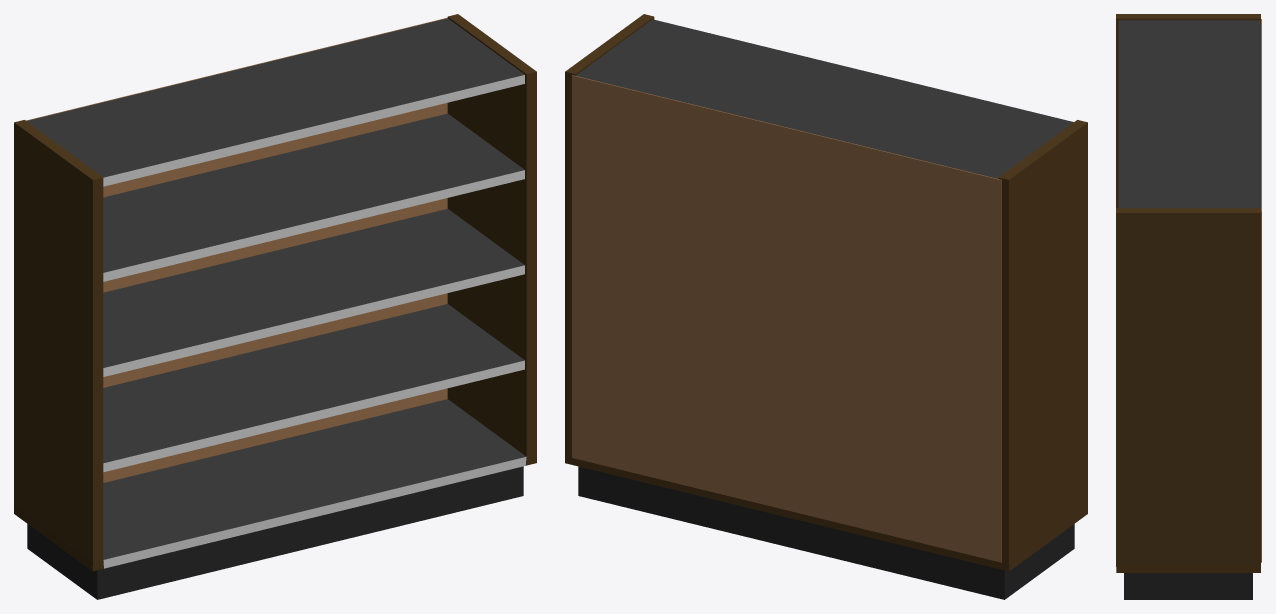
File: Large Brown Shelf.fbx
3 views of the same model, side by side, from view 1: azimuth 30°, elevation 25°; view 2: azimuth 150°, elevation 25°; view 3: azimuth 270°, elevation 25° (orthographic). The views are drawn at different scales.
Visible parts, largest first — view 1: Large Brown Shelf; view 2: Large Brown Shelf; view 3: Large Brown Shelf.
Part boxes in pixels (x1,y1,x2,y2): Large Brown Shelf: (14,14,536,599); Large Brown Shelf: (565,14,1087,599); Large Brown Shelf: (1116,14,1261,599).
Bounding box in the file's own units: 184 × 168 × 56.98.
Materials: 1 (1 with a texture image).
